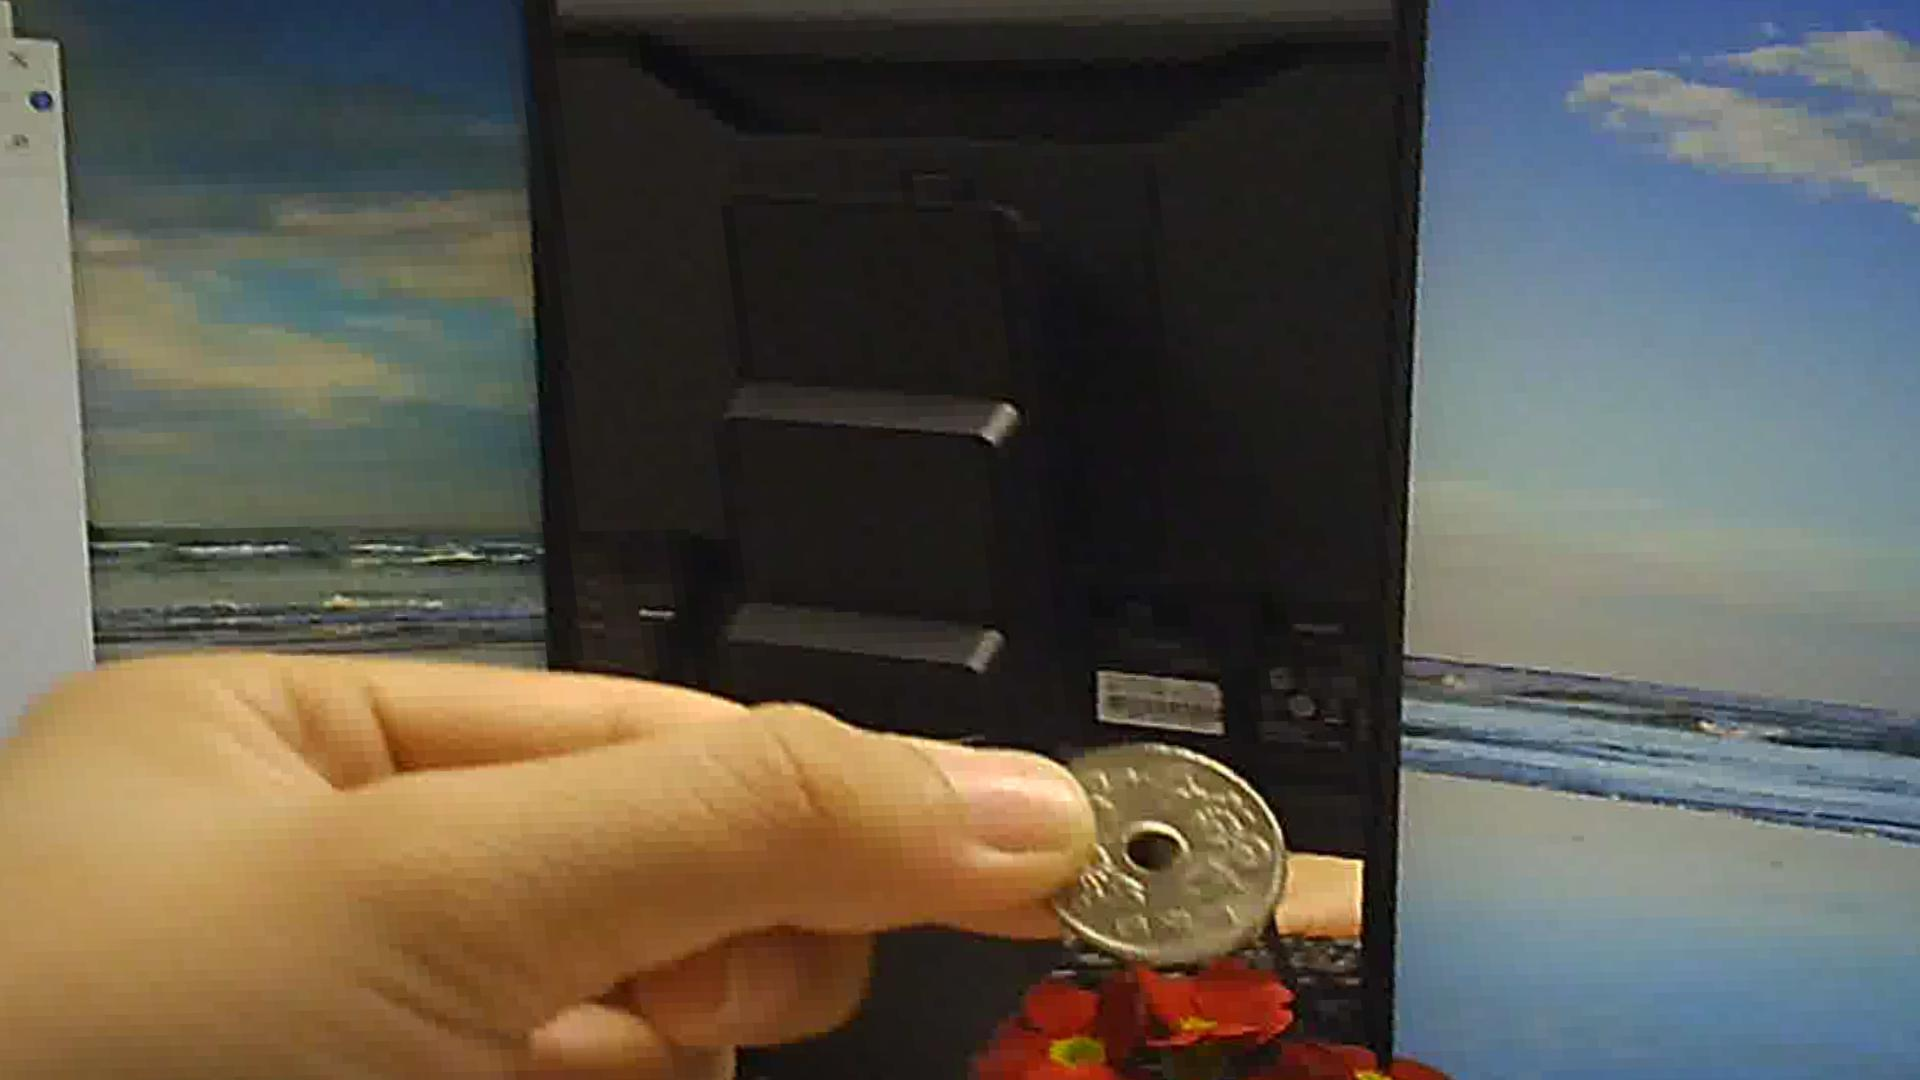50 Yen: (1033, 738, 1287, 964)
